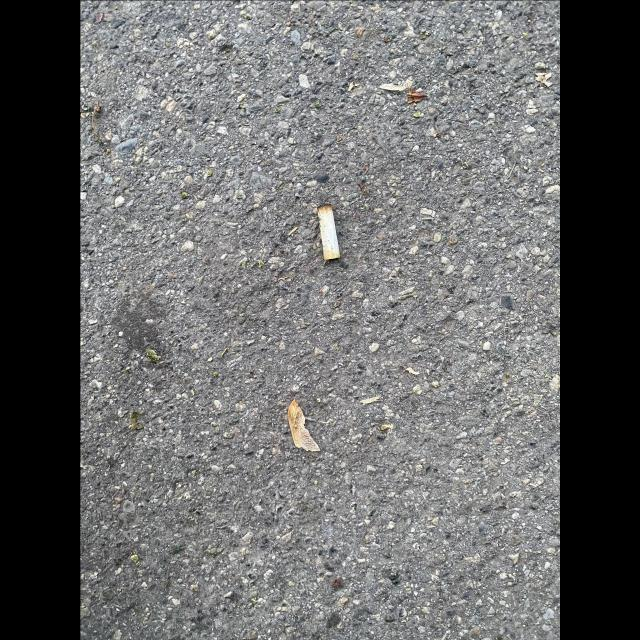cigarette: (317, 203, 340, 260)
